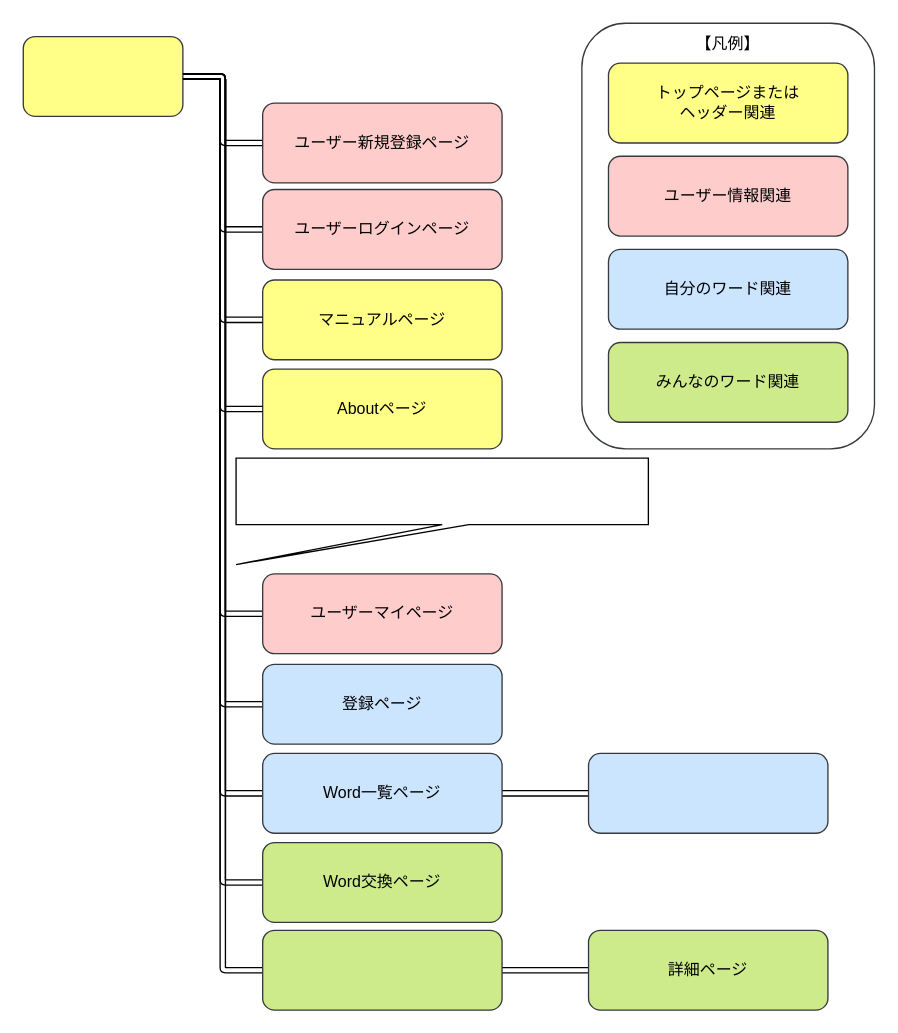
Image size: 898x1033. Some labels were removed from this diagram. Here are the shapes that lost their labels. From the top down, the centre of each, then its label:
(102,75): トップページ
(441,511): 以下の階層にはログインしていないユーザーは アクセスできないようにすること
(707,792): 編集ページ
(381,969): 交換済Word一覧ページ
